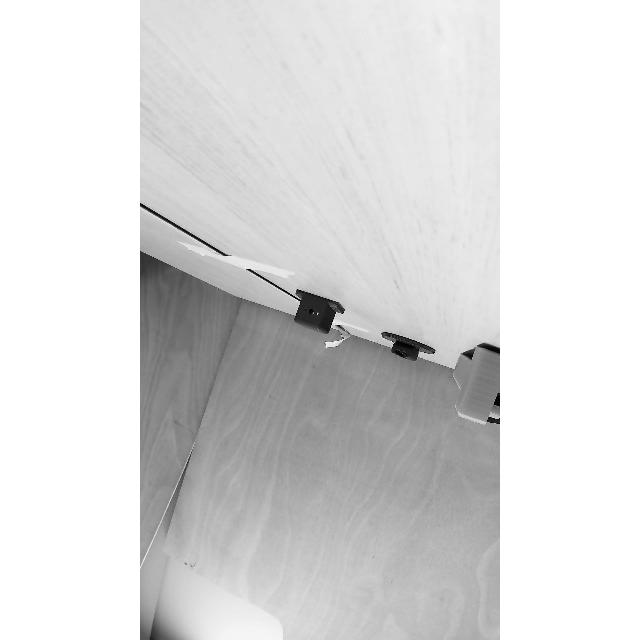targets: (458, 341, 499, 421), (294, 286, 344, 334), (382, 330, 436, 362)
